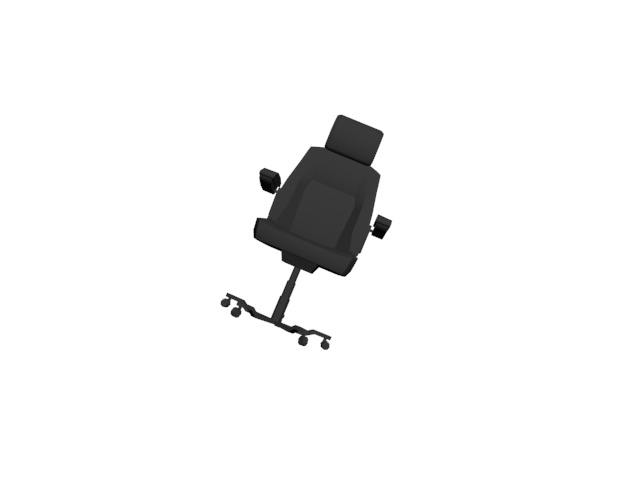desk_chair: (217, 113, 399, 352)
